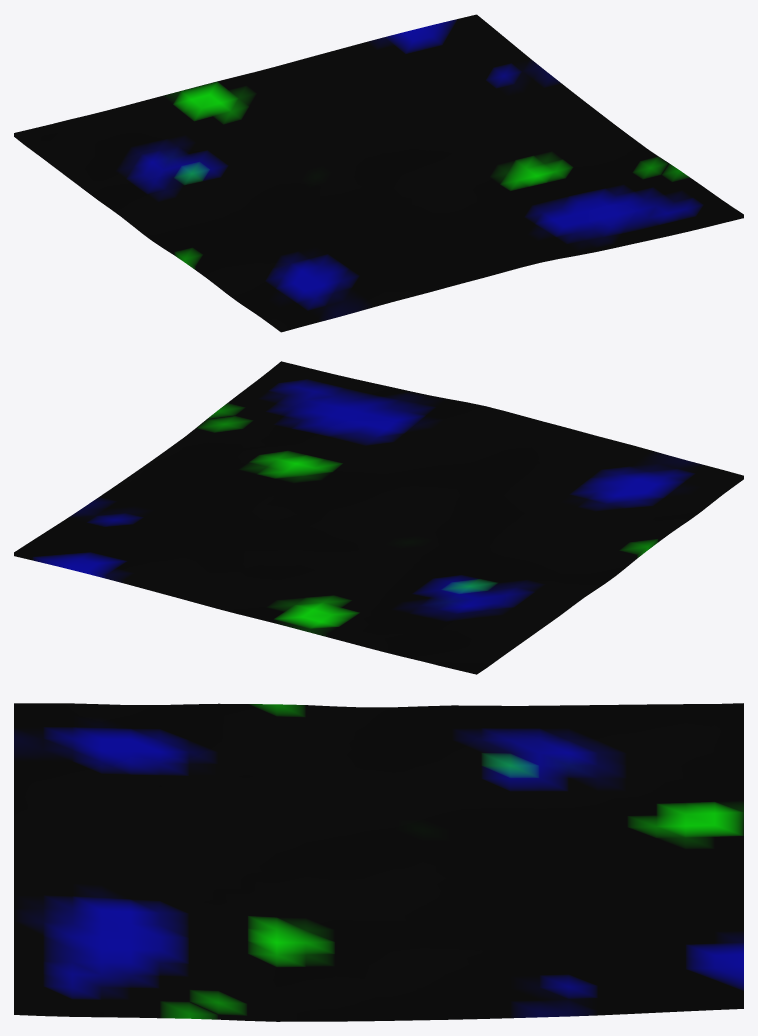
The model's file is coast_11_6.glb.
3 views of the same model, one above another, from view 1: azimuth 30°, elevation 25°; view 2: azimuth 150°, elevation 25°; view 3: azimuth 270°, elevation 25° (orthographic). The views are drawn at different scales.
Visible parts, largest first — view 1: terrain; view 2: terrain; view 3: terrain.
Part boxes in pixels (left/top/right/bottom): terrain: left=14, top=14, right=743, bottom=332; terrain: left=14, top=361, right=743, bottom=674; terrain: left=14, top=703, right=743, bottom=1021.
Bounding box in the file's own units: 200 × 5.65 × 200.
